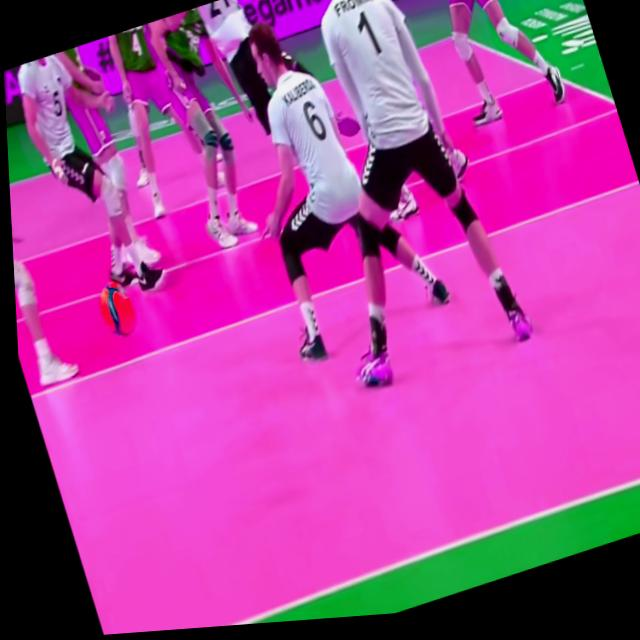player: (239, 0, 531, 405), (202, 0, 453, 372)
